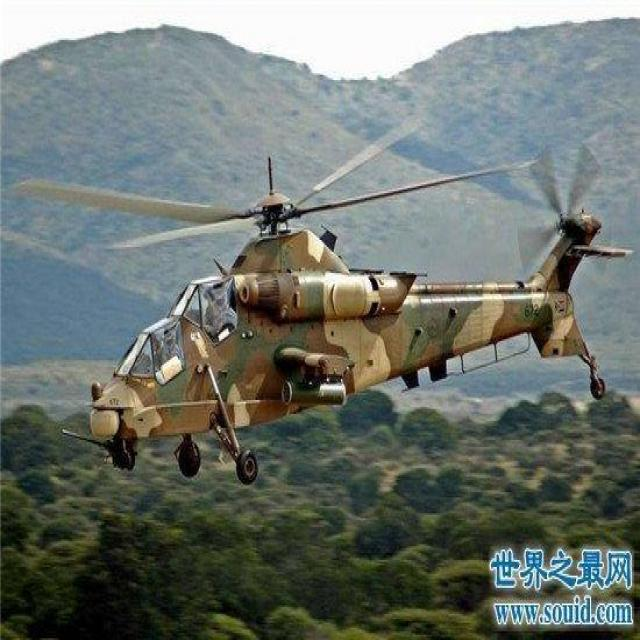MIL_HELO: (10, 107, 632, 511)
